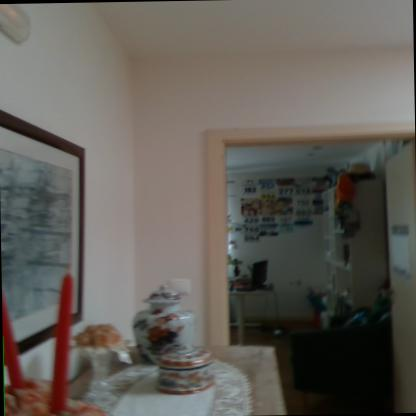open: (192, 117, 415, 415)
